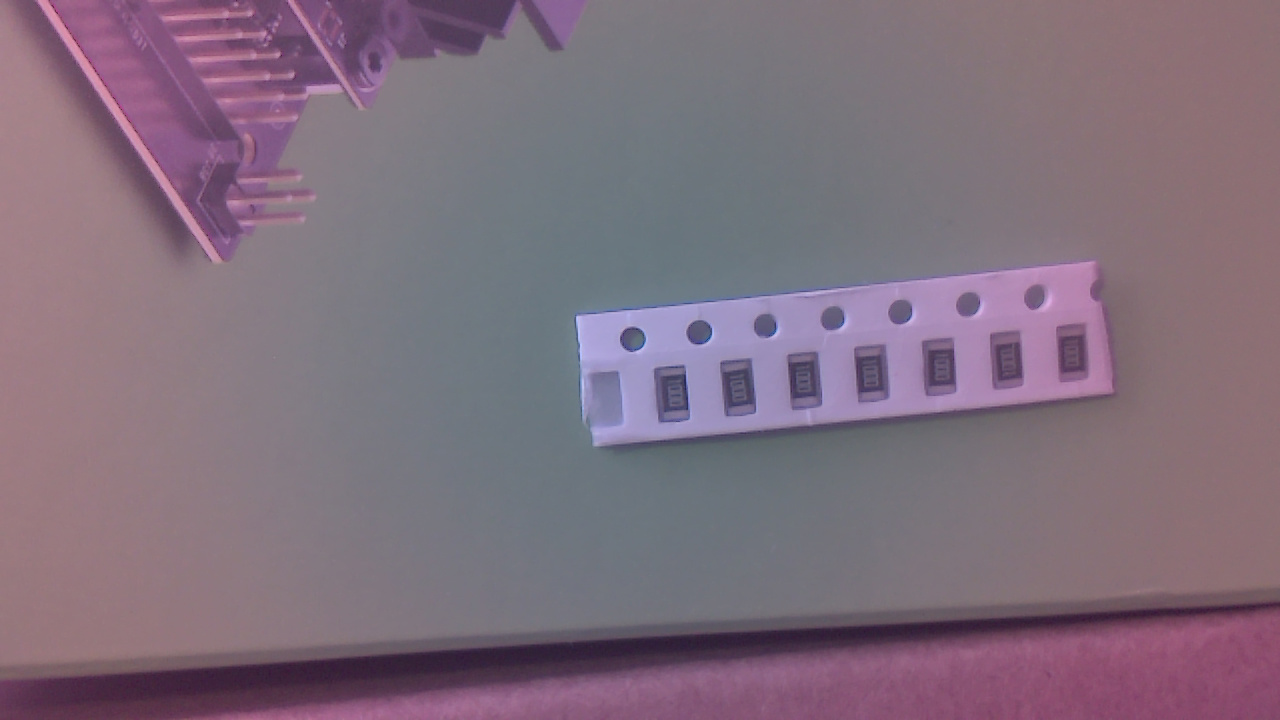Resistor: (659, 370, 697, 429), (996, 333, 1031, 397), (791, 357, 828, 416), (928, 340, 962, 402), (726, 364, 760, 425), (1064, 327, 1095, 387), (860, 352, 894, 406)
